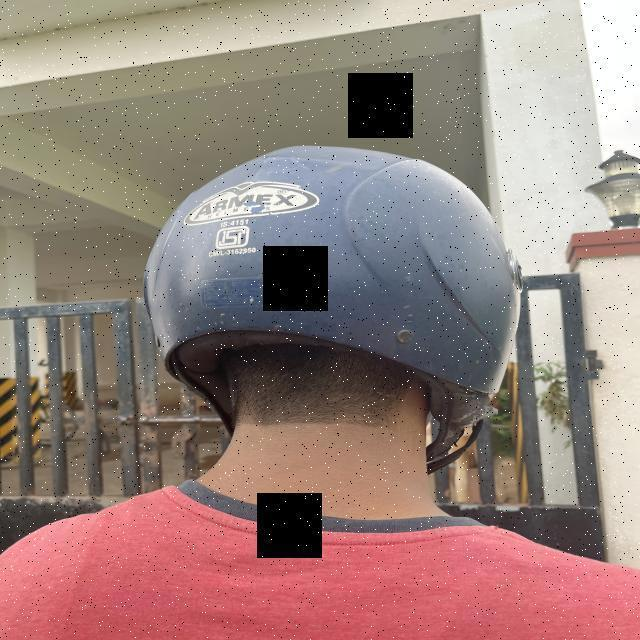helmet: (146, 146, 524, 480)
